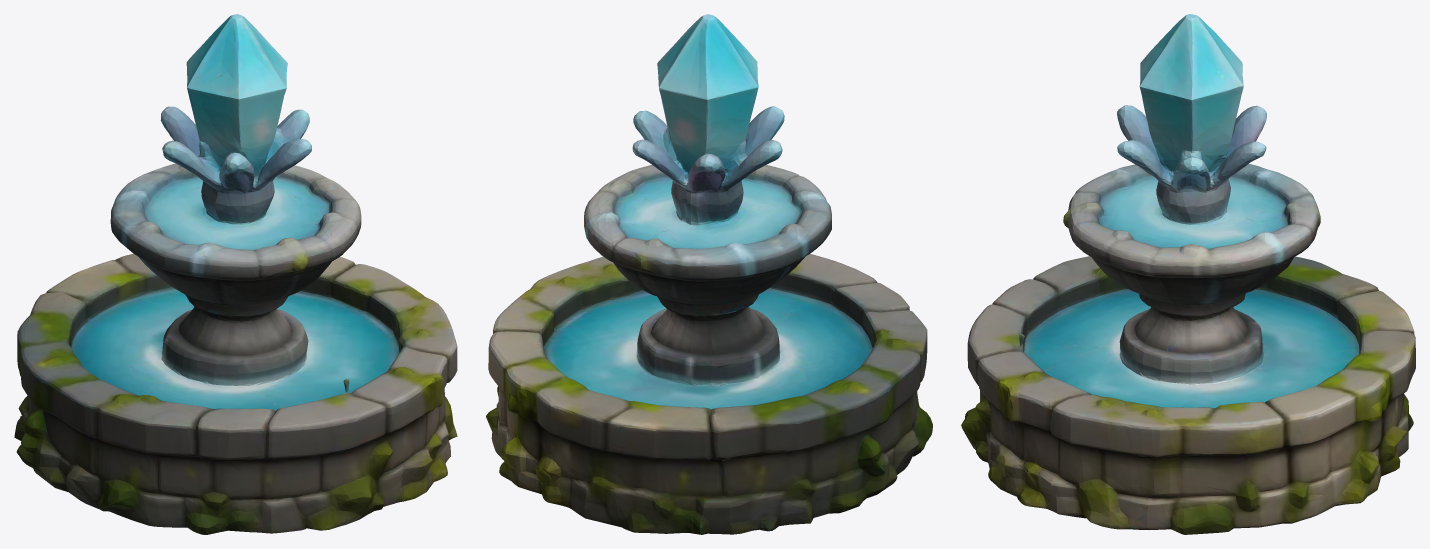
The picture shows the model from 3 angles, left to right: view 1: azimuth 30°, elevation 25°; view 2: azimuth 150°, elevation 25°; view 3: azimuth 270°, elevation 25°; orthographic projection.
Parts seen in each view (by area): view 1: world; view 2: world; view 3: world.
Boxes of the visible parts, <box> form: world: <box>14,14,457,534</box>; world: <box>486,14,932,534</box>; world: <box>961,14,1415,534</box>.
Size of the model in its own units: 0.939 by 0.997 by 0.9592.
1 material, 1 textured.
